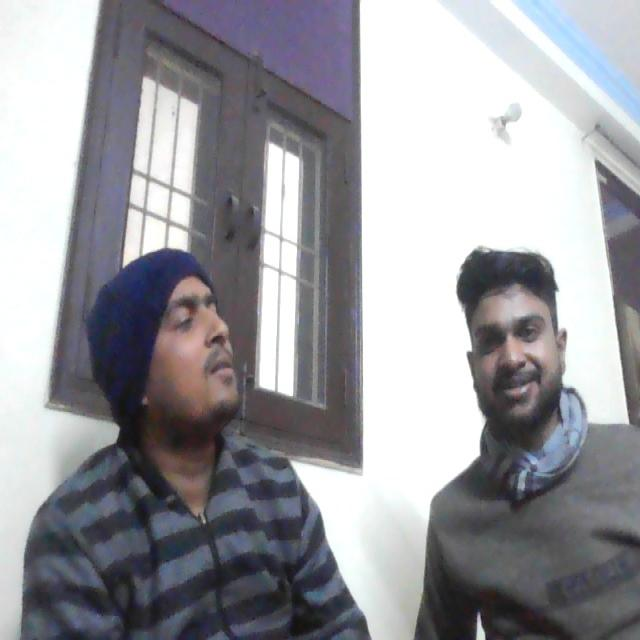real: (135, 206, 256, 434), (457, 232, 567, 440)
